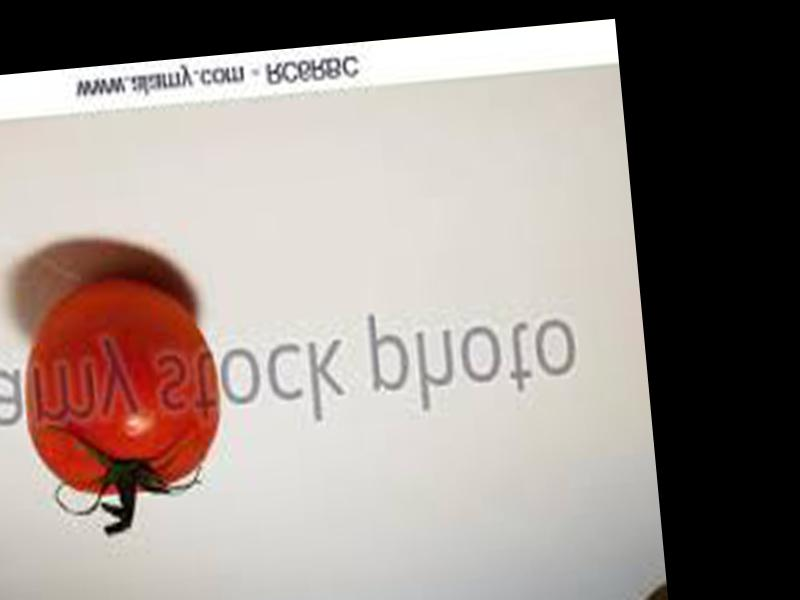Tomato: (15, 272, 228, 505)
